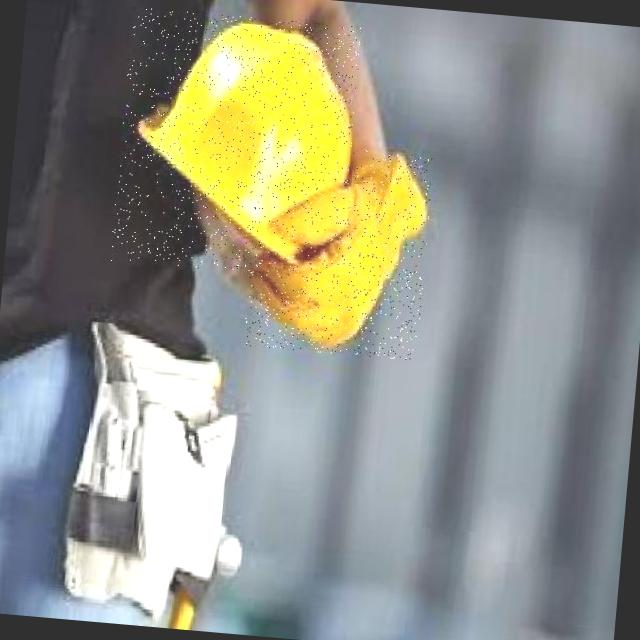helmet: (110, 7, 362, 280)
